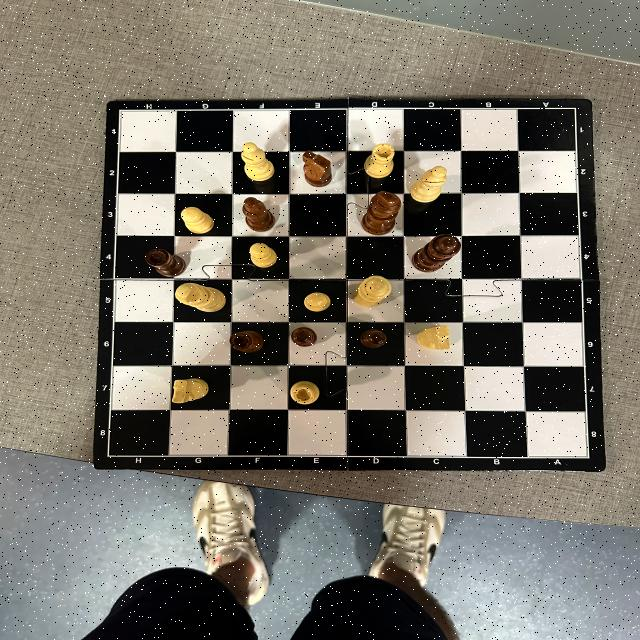Black-Bishop: (242, 196, 276, 232)
Black-King: (362, 190, 400, 234)
Black-Knight: (302, 150, 332, 187)
Black-Pawn: (290, 328, 316, 347), (361, 329, 385, 348)
Black-Queen: (412, 234, 460, 272)
Black-Rook: (145, 248, 186, 276), (230, 329, 264, 354)
White-Bishop: (241, 142, 275, 182), (411, 166, 447, 202)
White-King: (174, 282, 227, 312)
White-Knight: (172, 378, 208, 403), (418, 325, 450, 349)
White-Pawn: (180, 207, 214, 234), (250, 243, 278, 267), (305, 292, 329, 312)
White-Queen: (354, 276, 392, 308)
White-Rook: (365, 144, 395, 178), (290, 380, 320, 405)
